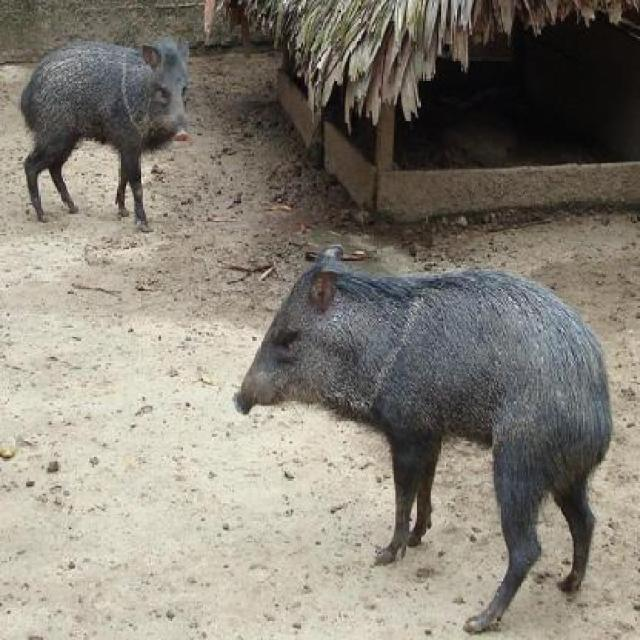wildboar: (225, 237, 624, 640), (16, 25, 198, 233)
